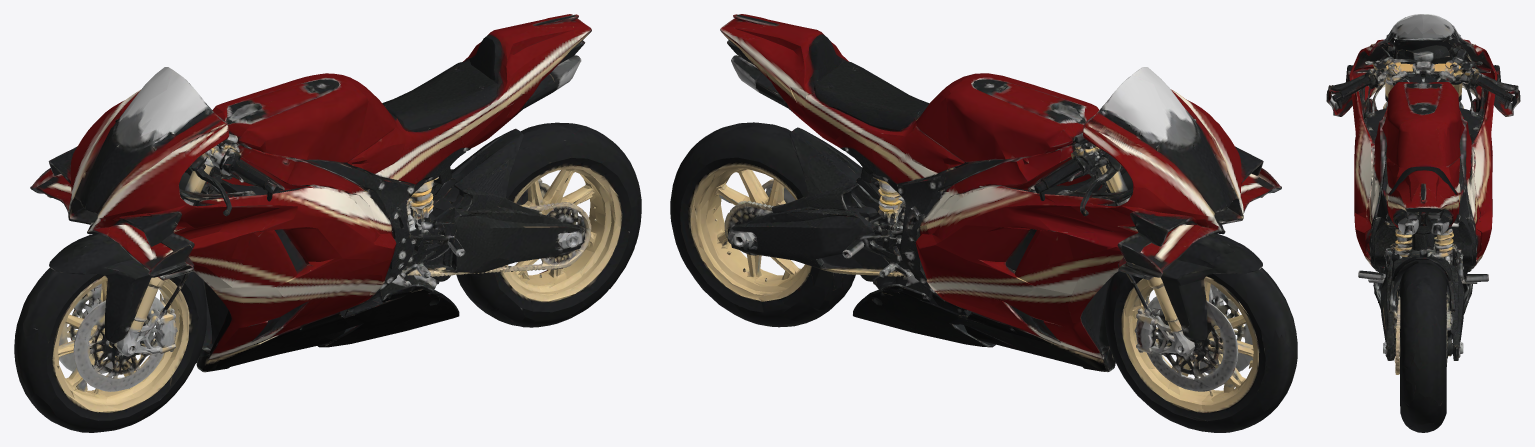
The model's file is bike-ai.glb.
The picture shows the model from 3 angles, left to right: view 1: azimuth 30°, elevation 25°; view 2: azimuth 150°, elevation 25°; view 3: azimuth 270°, elevation 25°; orthographic projection. The views are drawn at different scales.
Visible parts, largest first — view 1: Mesh_0; view 2: Mesh_0; view 3: Mesh_0.
Part boxes in pixels (left/top/right/bottom): Mesh_0: left=14, top=14, right=641, bottom=432; Mesh_0: left=670, top=14, right=1297, bottom=432; Mesh_0: left=1326, top=14, right=1520, bottom=432.
Bounding box in the file's own units: 1.9 × 0.9974 × 0.6525.
1 material, 1 textured.
